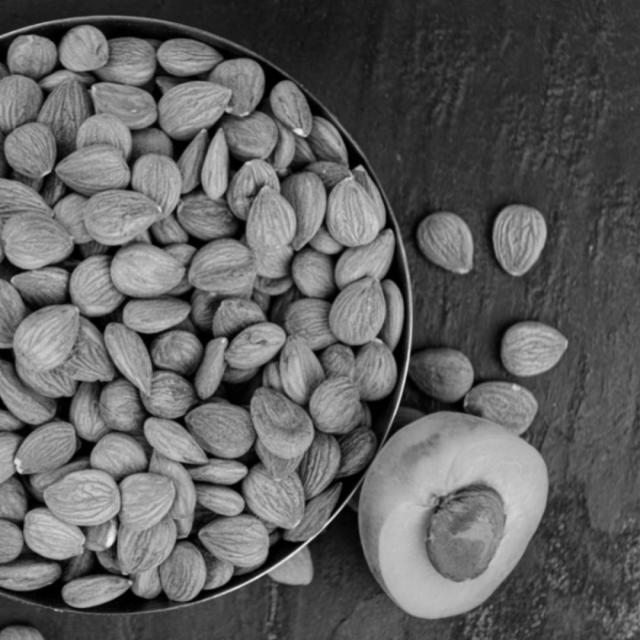Kayisi Cekirdegi: (425, 492, 507, 576), (81, 191, 161, 245), (39, 475, 120, 526), (17, 309, 79, 374), (466, 383, 537, 437), (506, 321, 569, 376), (494, 209, 543, 277), (202, 524, 272, 567), (418, 215, 471, 267), (147, 417, 204, 465), (339, 286, 384, 346)
